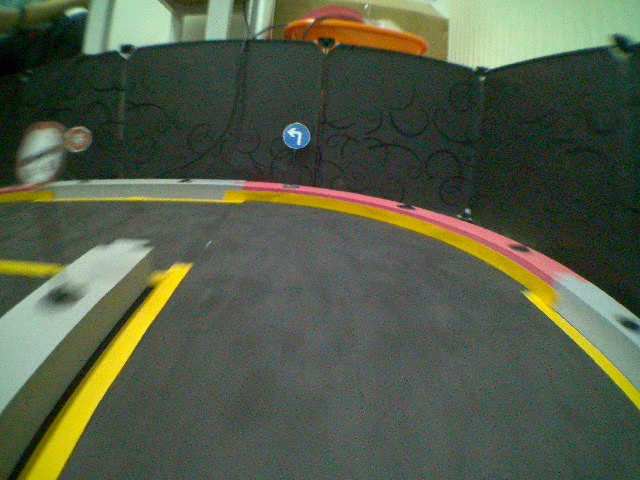Check: (16, 121, 65, 188)
Stop: (67, 125, 91, 154)
turn: (280, 121, 312, 152)
